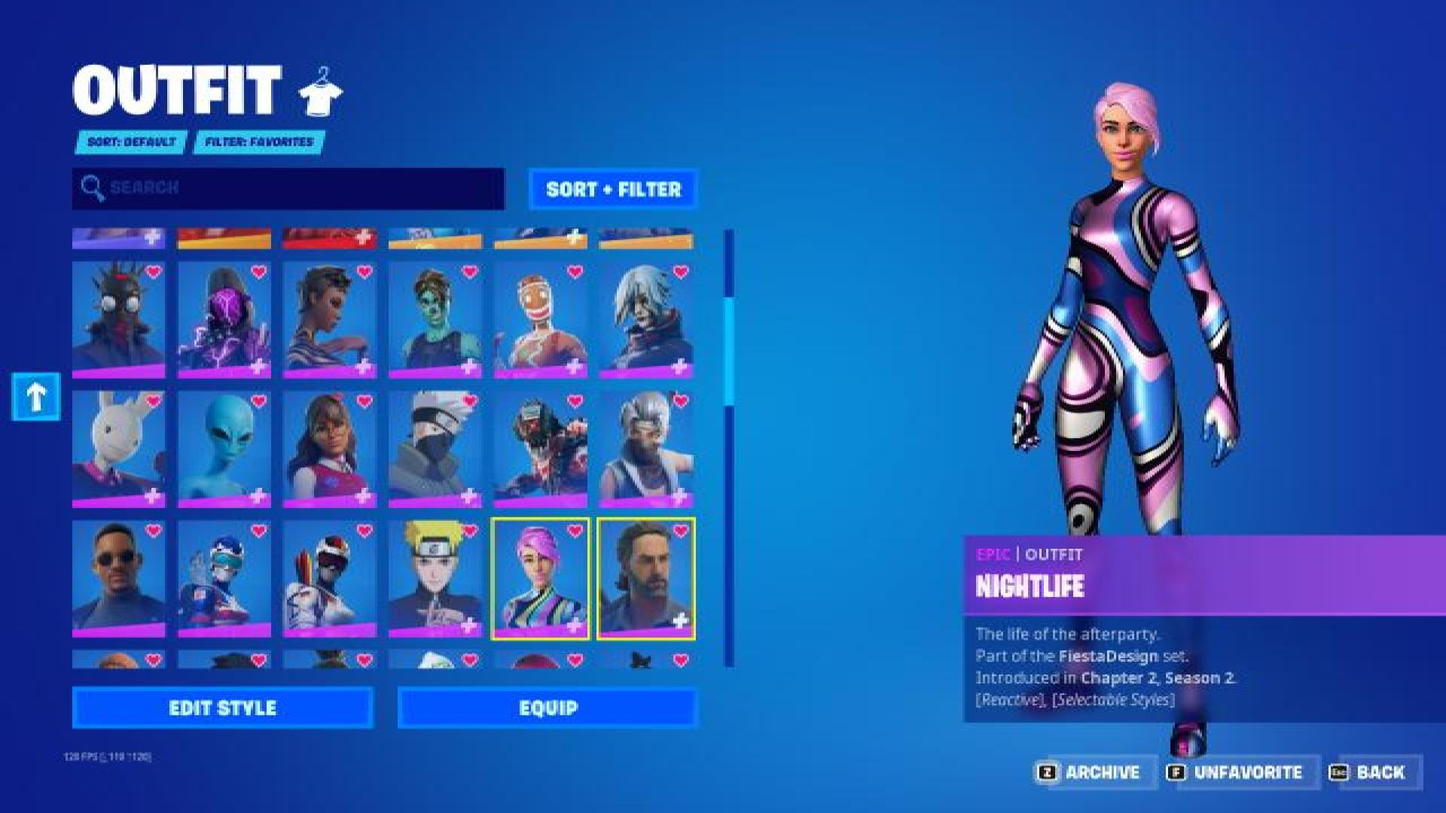player: (1001, 74, 1290, 772)
